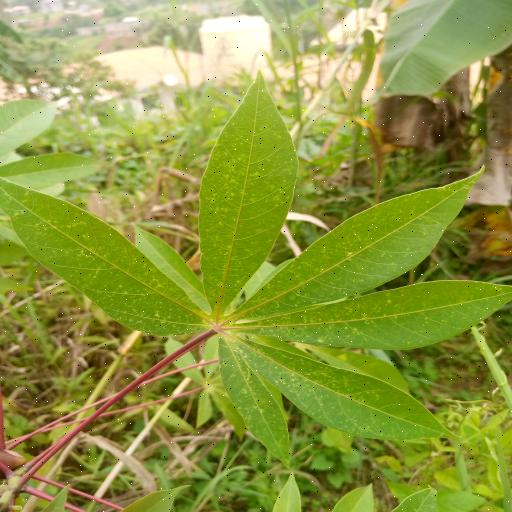Cassava_Mosaic: (0, 76, 512, 450)
